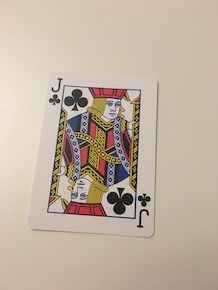JackOfClubs: (27, 68, 168, 238)
